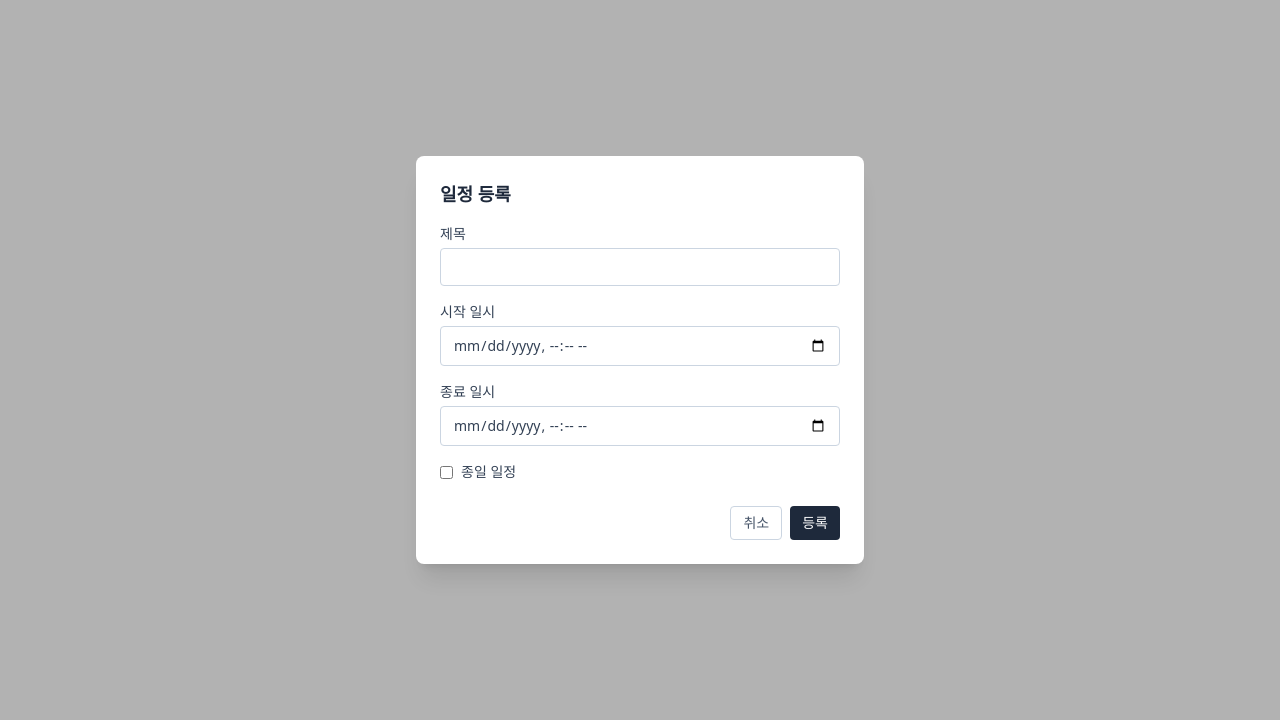
Test: ScheduleModal (FE-08 / BR-06/07/08) › 서버 충돌 반환 시 저장 유지 + 경고 표시(BR-08/SC-03)
Type "회의" into the field labelled "제목" at (640, 267), box [440,248,840,286]
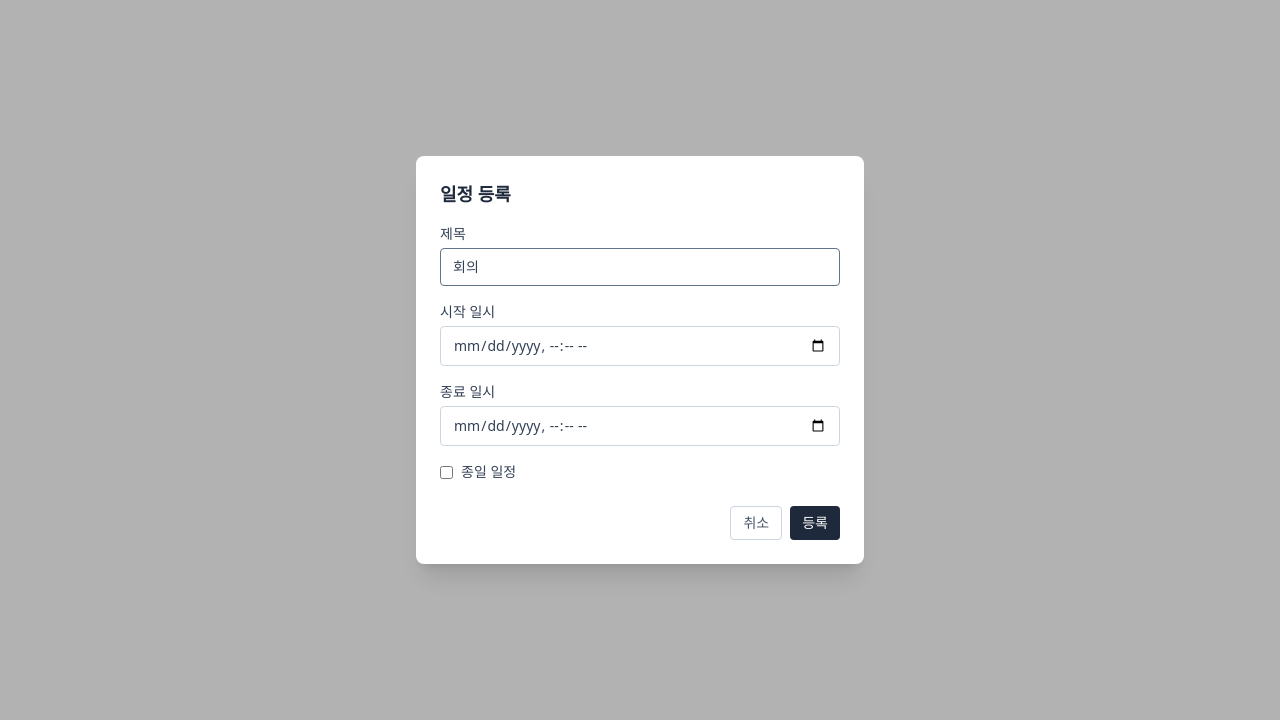
Type "2026-06-05T14:00" into the field labelled "시작 일시" at (640, 346), box [440,326,840,366]
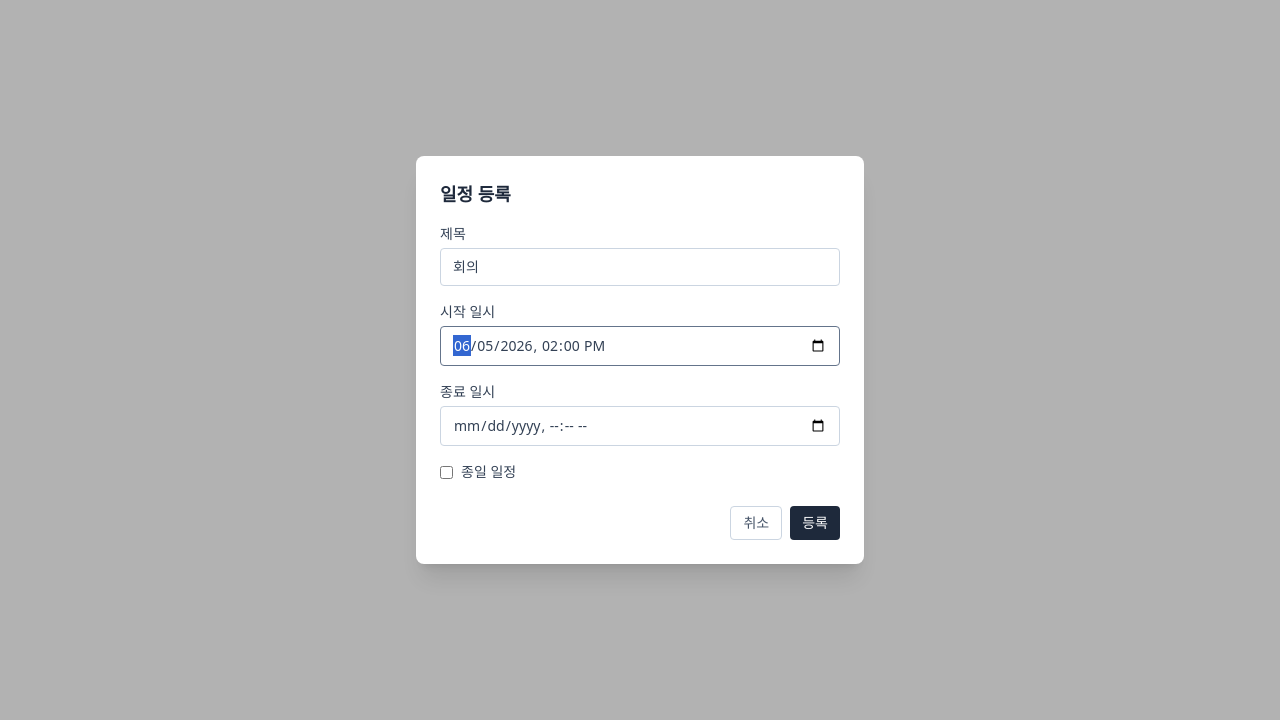
Type "2026-06-05T15:00" into the field labelled "종료 일시" at (640, 426), box [440,406,840,446]
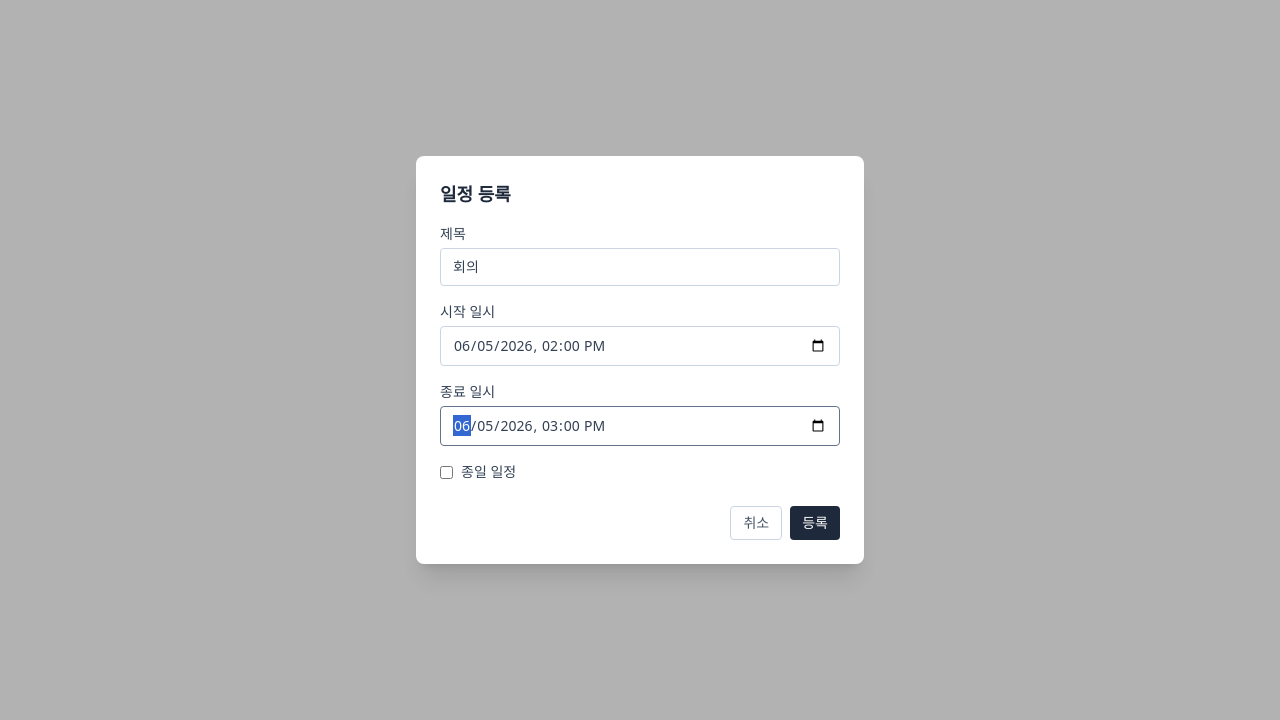
Click the button "등록" at (815, 523), box [790,506,840,540]
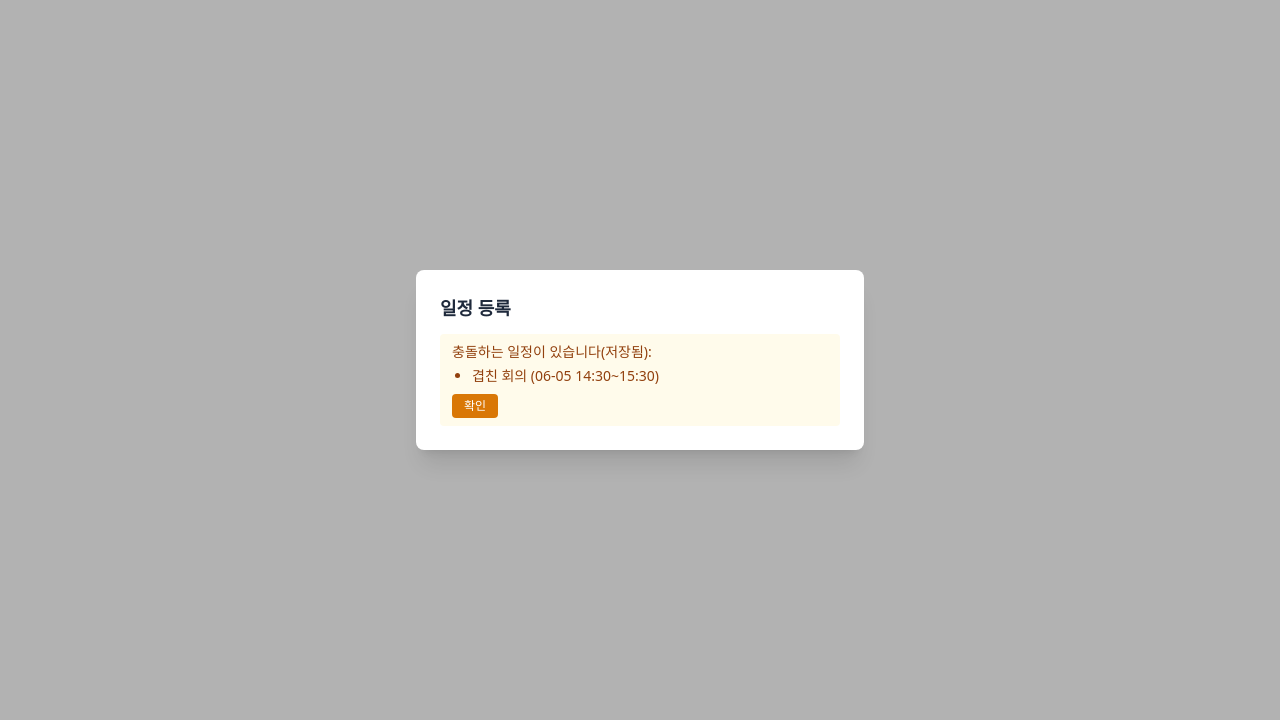
Expected: the text "충돌하는 일정이 있습니다(저장됨):" is shown, [452,342,652,361]
Expected: the list item "겹친 회의 (06-05 14:30~15:30)" is shown, [472,366,659,385]
